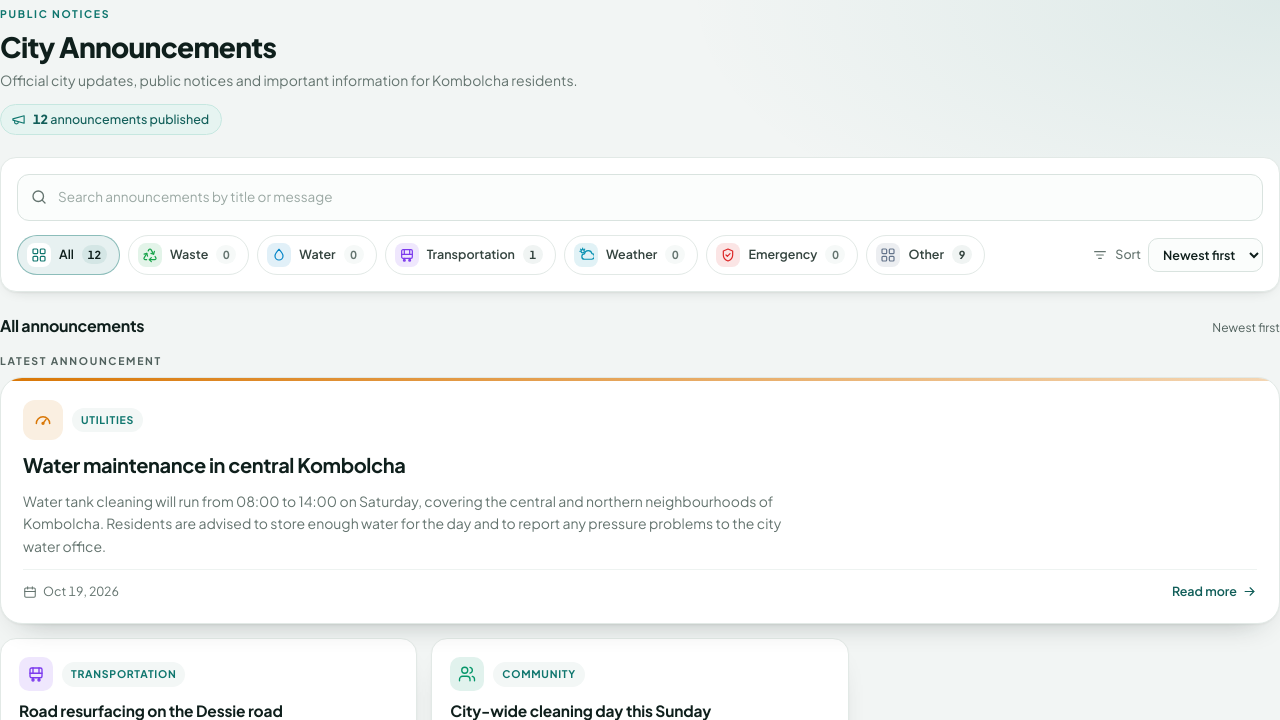
Test: Announcements feed › opens the full notice from "Read more"
This screenshot has width=1280, height=720.
expect the heading "Water maintenance in central Kombolcha" is shown: met, box x1=23 y1=452 x2=405 y2=477
Click the button "Read more". click: (1214, 592)
box: x1=1172 y1=582 x2=1257 y2=602
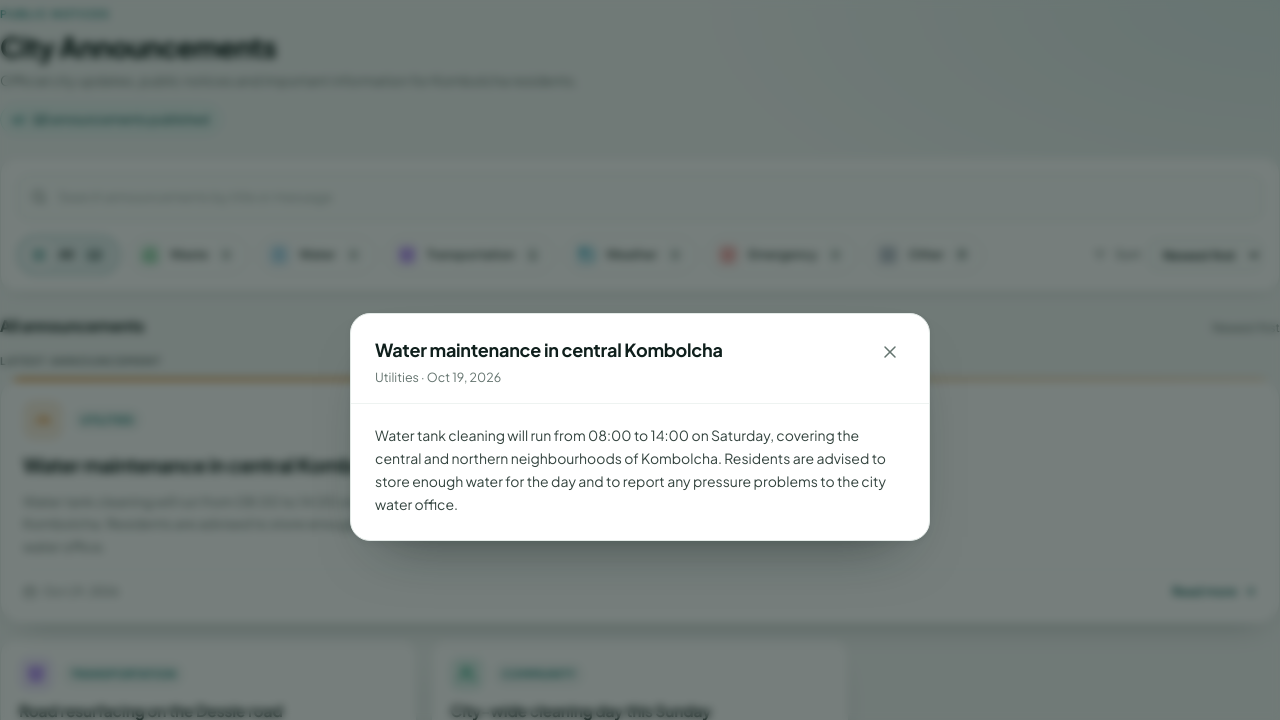
expect the text "Water tank cleaning will run from 08:00 to 14:00 on Saturday, covering the central and northern neighbourhoods of Kombol" is shown: met, box x1=375 y1=426 x2=888 y2=513
expect the text "Utilities · Oct 19, 2026" is shown: met, box x1=375 y1=369 x2=501 y2=385
